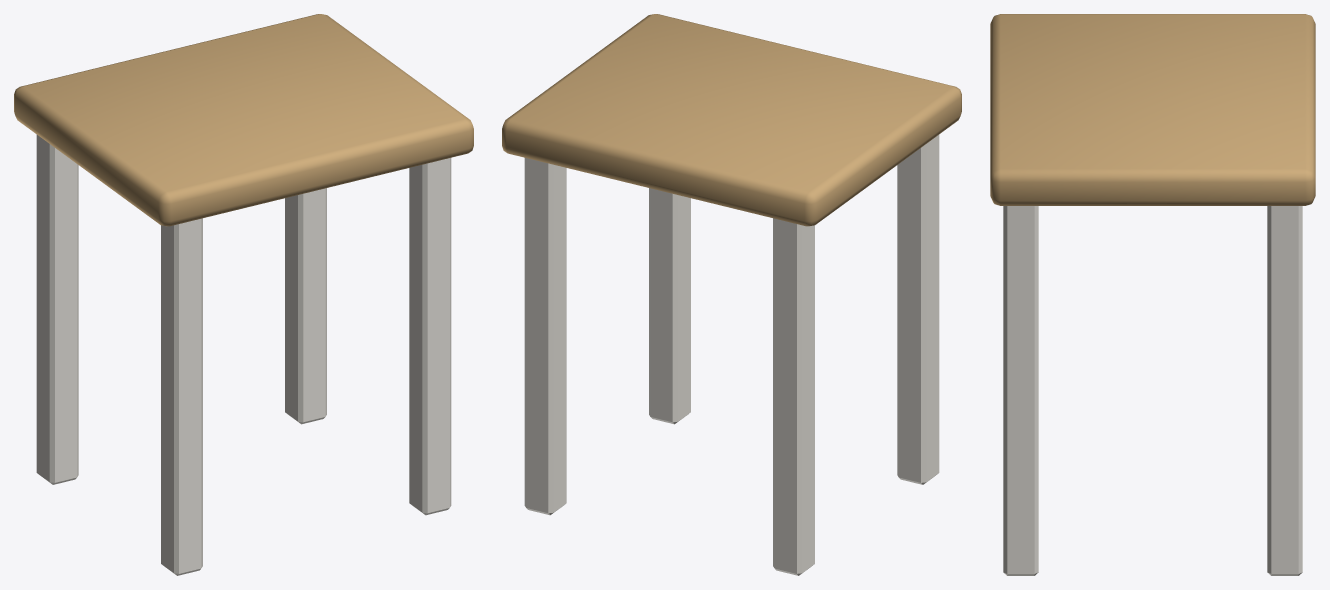
File: i_stool_6.glb
3 views of the same model, side by side, from view 1: azimuth 30°, elevation 25°; view 2: azimuth 150°, elevation 25°; view 3: azimuth 270°, elevation 25° (orthographic). The views are drawn at different scales.
Visible parts, largest first — view 1: o.004, o.002, o, o.001, o.003; view 2: o.004, o.003, o.001, o, o.002; view 3: o.004, o.002, o.003.
Boxes of the visible parts, x1,y1,x2,y2 form: o.004: [14, 14, 473, 226]; o.002: [409, 158, 451, 515]; o: [161, 218, 202, 575]; o.001: [36, 134, 78, 484]; o.003: [285, 188, 326, 424]; o.004: [502, 14, 961, 226]; o.003: [524, 158, 566, 515]; o.001: [773, 218, 814, 575]; o: [897, 134, 939, 484]; o.002: [649, 188, 690, 424]; o.004: [990, 14, 1315, 205]; o.002: [1003, 206, 1038, 575]; o.003: [1267, 206, 1302, 575].
Size of the model in its own units: 0.38 by 0.45 by 0.32.
